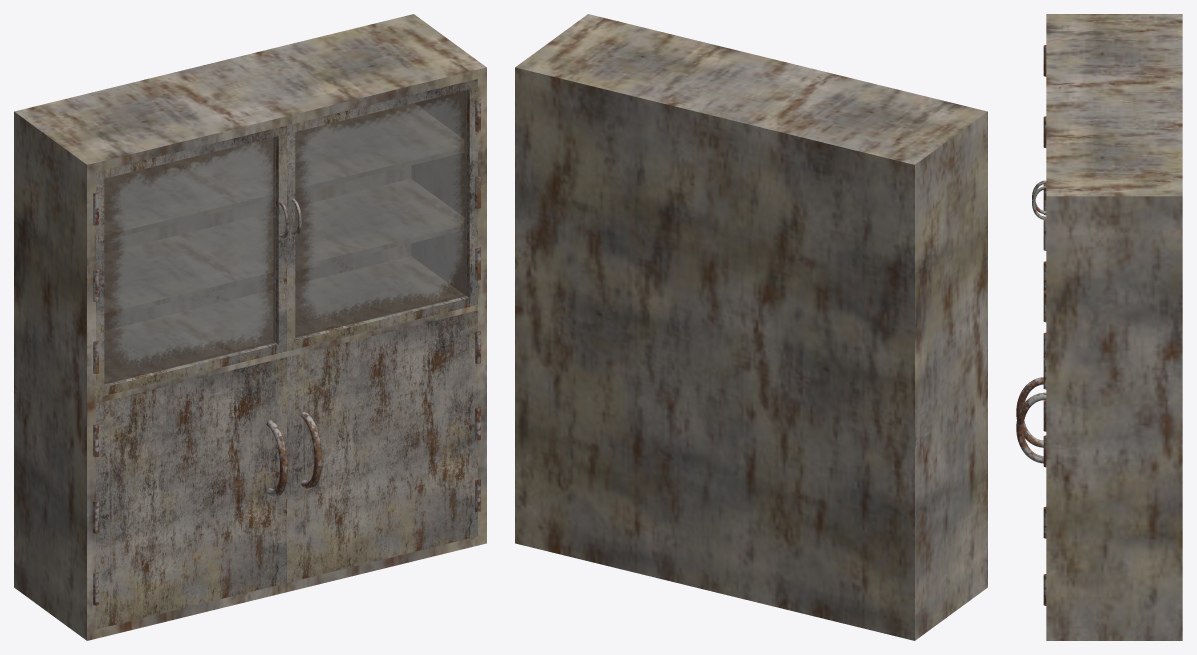
Rendered from Cupboard_B.fbx.
3 renders of one model, left to right at view 1: azimuth 30°, elevation 25°; view 2: azimuth 150°, elevation 25°; view 3: azimuth 270°, elevation 25°, orthographic. The views are drawn at different scales.
Parts seen in each view (by area): view 1: Cupboard_B; view 2: Cupboard_B; view 3: Cupboard_B.
Boxes of the visible parts, x1,y1,x2,y2 form: Cupboard_B: (14,14,486,640); Cupboard_B: (515,14,987,640); Cupboard_B: (1016,14,1182,640).
Bounding box in the file's own units: 176 × 200 × 67.85.
Materials: 7 (7 with a texture image).
